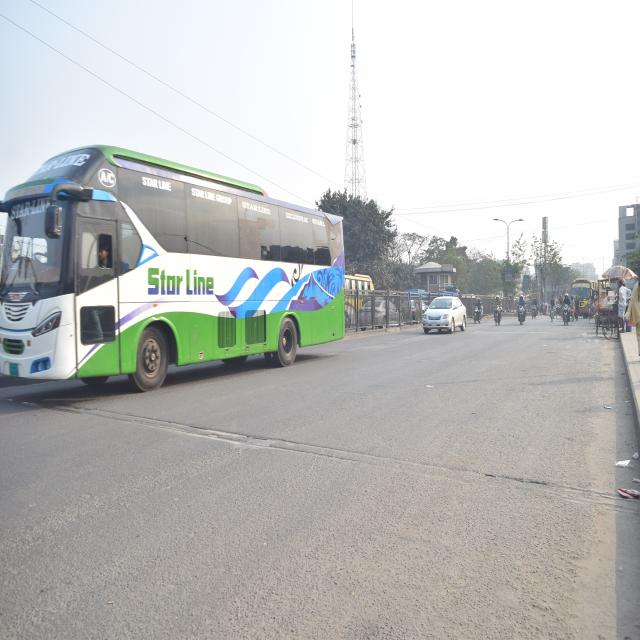bus: (1, 134, 350, 409), (572, 275, 597, 318)
car: (416, 291, 469, 337)
motorbike: (469, 296, 485, 330), (489, 296, 504, 330), (513, 296, 527, 330), (560, 294, 570, 326), (529, 292, 539, 321)
